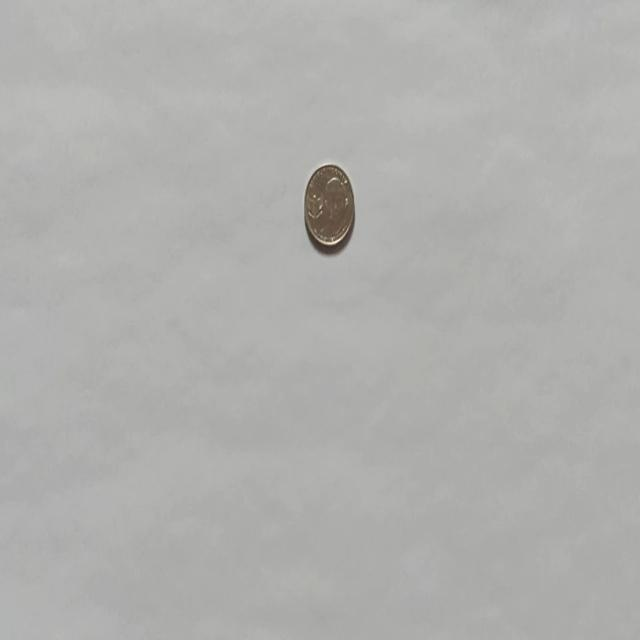seribu rupiah koin: (302, 162, 356, 248)
